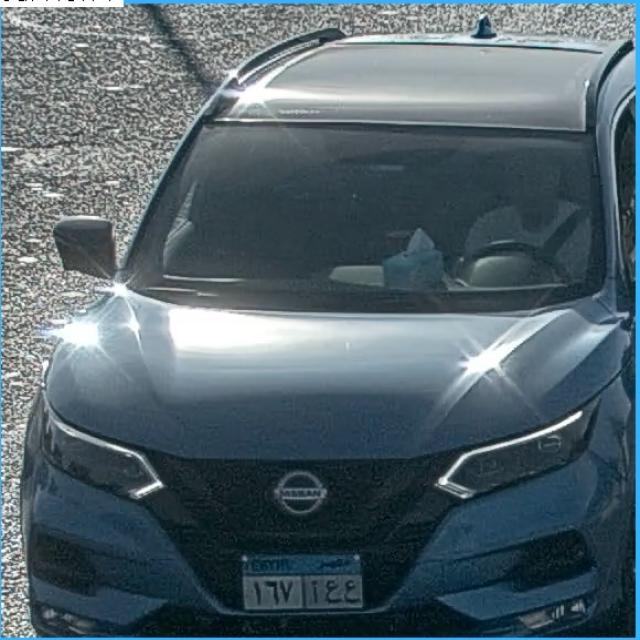windshield: (138, 119, 608, 294)
